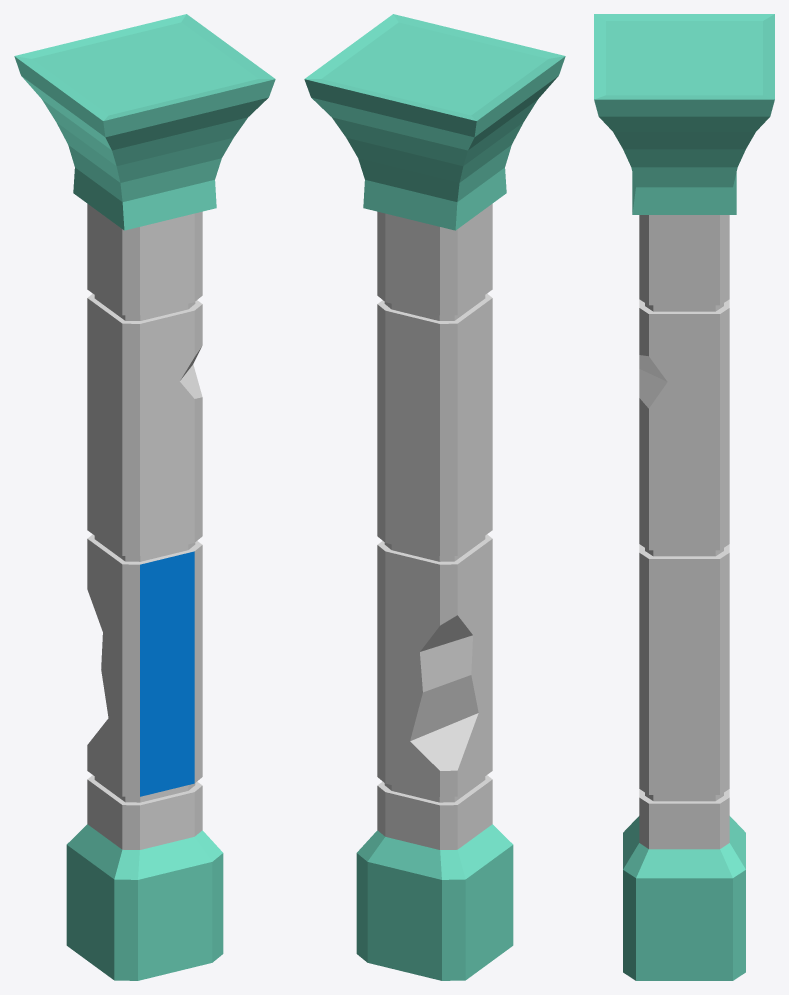
File: Coluna.fbx
The picture shows the model from 3 angles, left to right: view 1: azimuth 30°, elevation 25°; view 2: azimuth 150°, elevation 25°; view 3: azimuth 270°, elevation 25°; orthographic projection.
Visible parts, largest first — view 1: Coluna Inteira; view 2: Coluna Inteira; view 3: Coluna Inteira.
Part boxes in pixels (<box>): Coluna Inteira: <box>14,14,275,980</box>; Coluna Inteira: <box>304,14,565,980</box>; Coluna Inteira: <box>594,14,774,980</box>.
Size of the model in its own units: 161 by 786 by 144.
